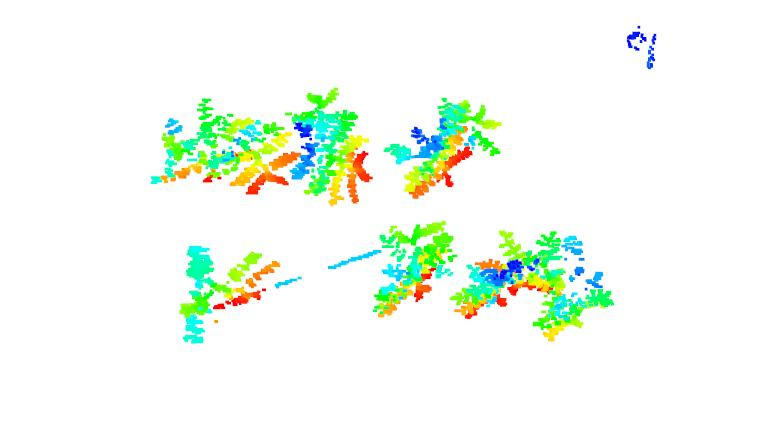chickpea: (386, 94, 505, 201), (529, 233, 626, 347), (149, 94, 245, 200), (179, 243, 279, 341), (297, 90, 380, 208), (452, 215, 539, 323), (376, 218, 455, 325), (232, 118, 302, 201)
